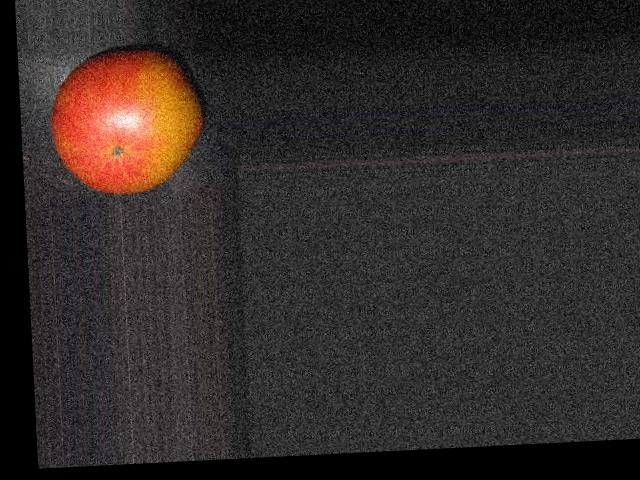tomato: (48, 46, 204, 197)
